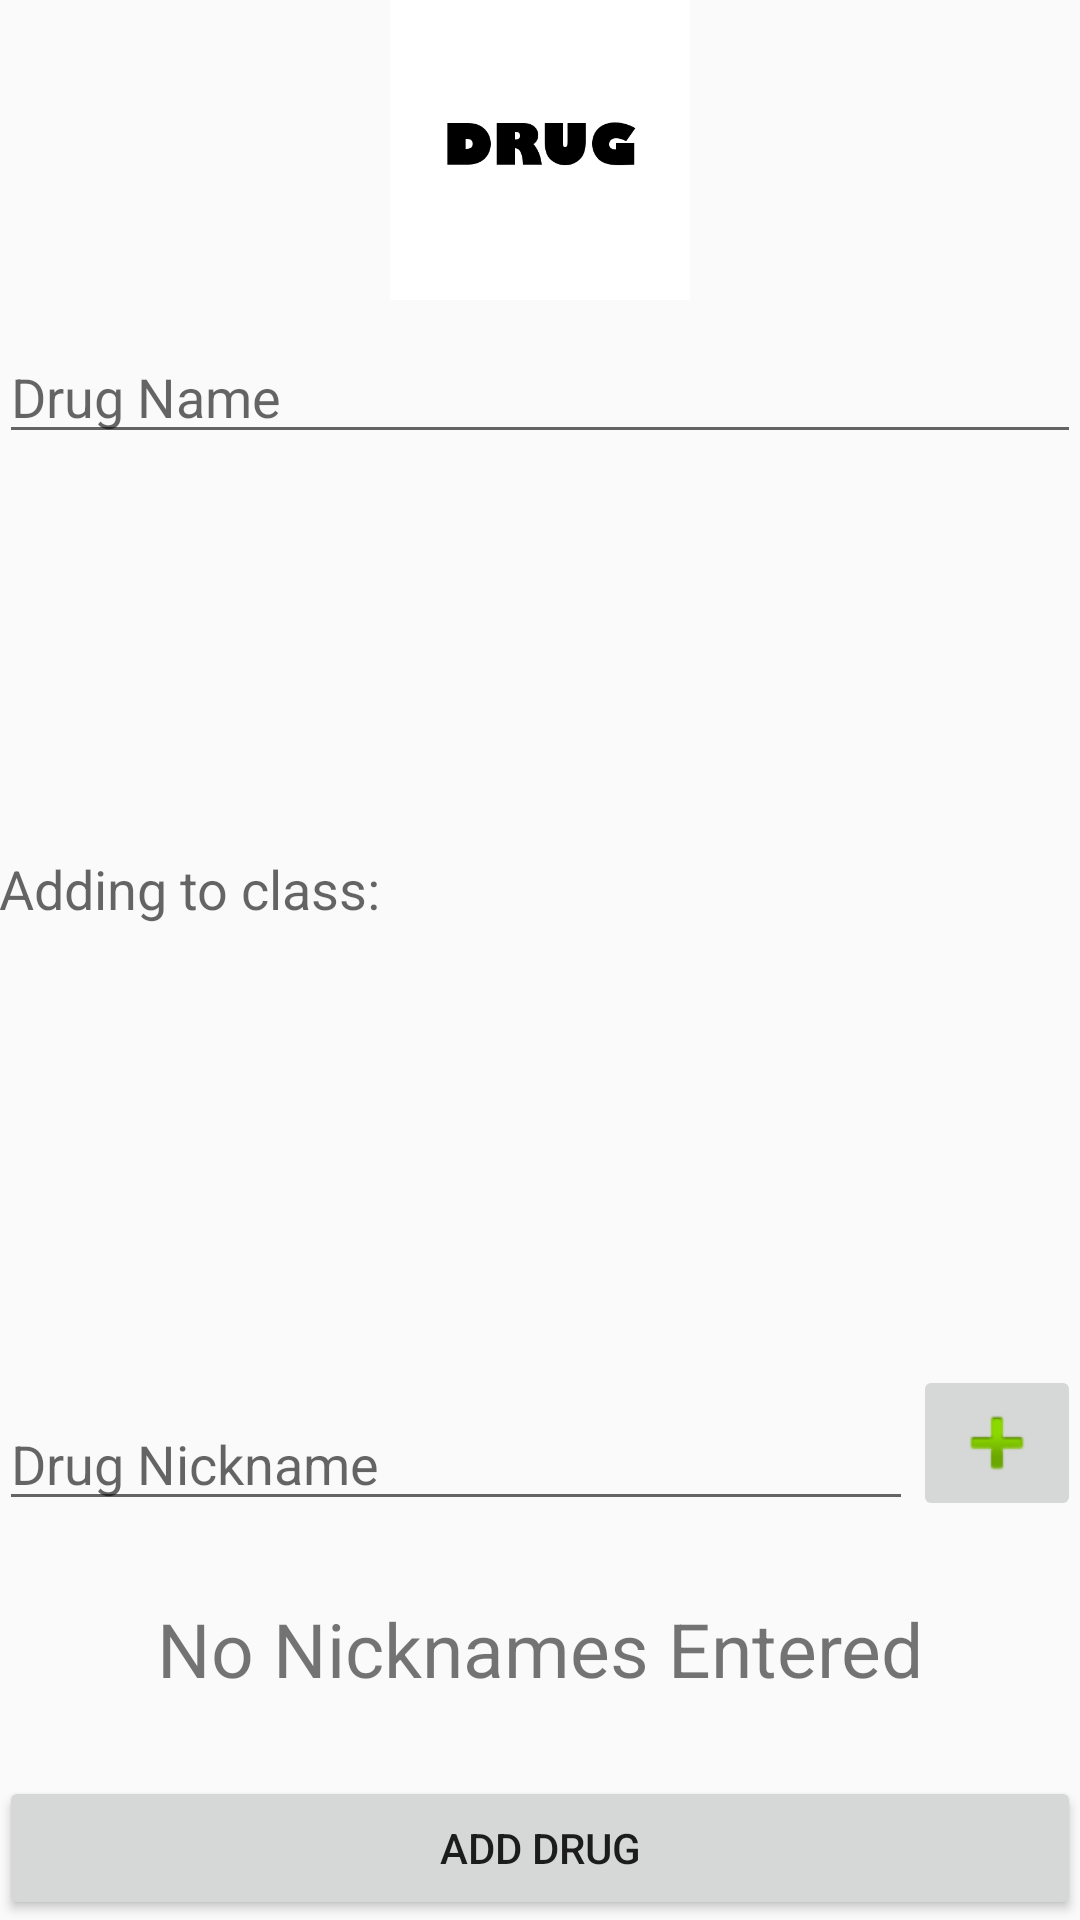

Point at icon controls on the screen. Image size 1080px x 1920px, points as (x,y).
add: (997,1443)
